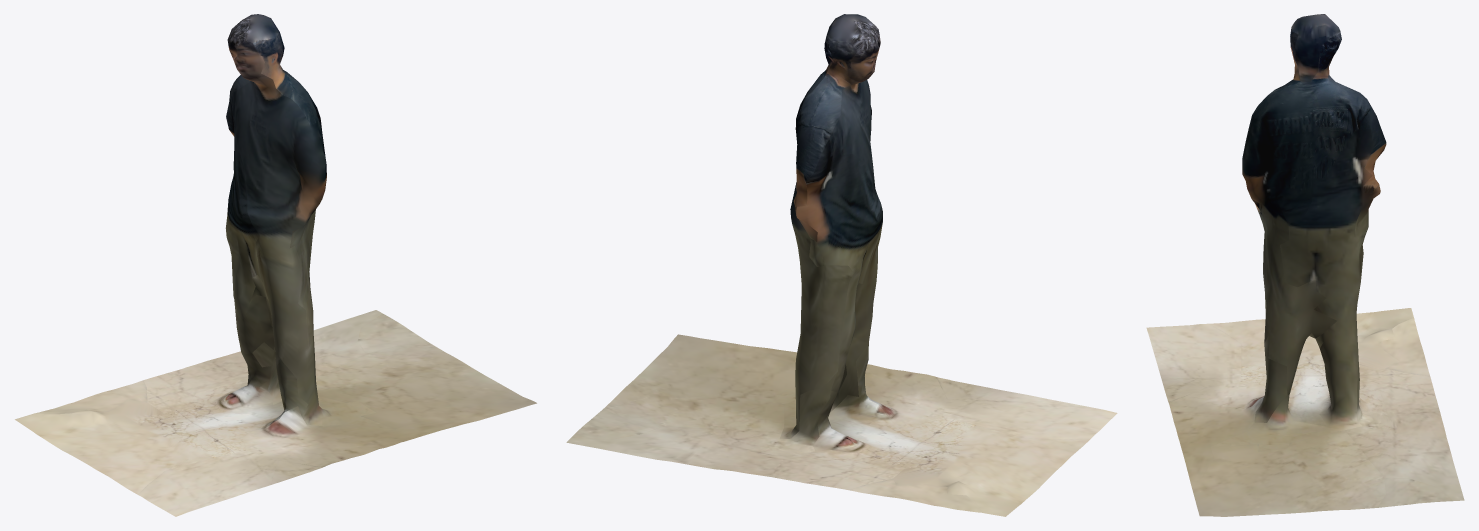
File: clean_mesh.glb
The picture shows the model from 3 angles, left to right: view 1: azimuth 30°, elevation 25°; view 2: azimuth 150°, elevation 25°; view 3: azimuth 270°, elevation 25°; orthographic projection. The views are drawn at different scales.
Visible parts, largest first — view 1: world; view 2: world; view 3: world.
Boxes of the visible parts, bbox=[...] form: world: bbox=[15, 14, 536, 516]; world: bbox=[566, 14, 1117, 516]; world: bbox=[1146, 14, 1464, 516].
Bounding box in the file's own units: 1 × 0.9155 × 0.6679.
1 material, 1 textured.
